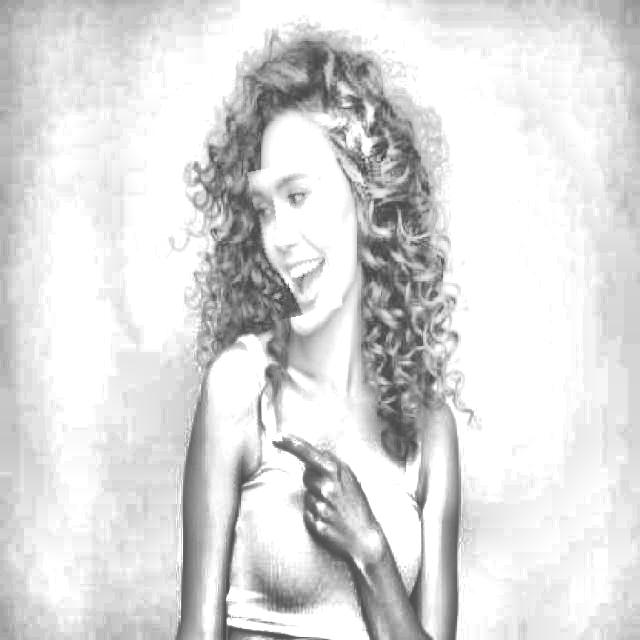happy: (251, 162, 337, 318)
